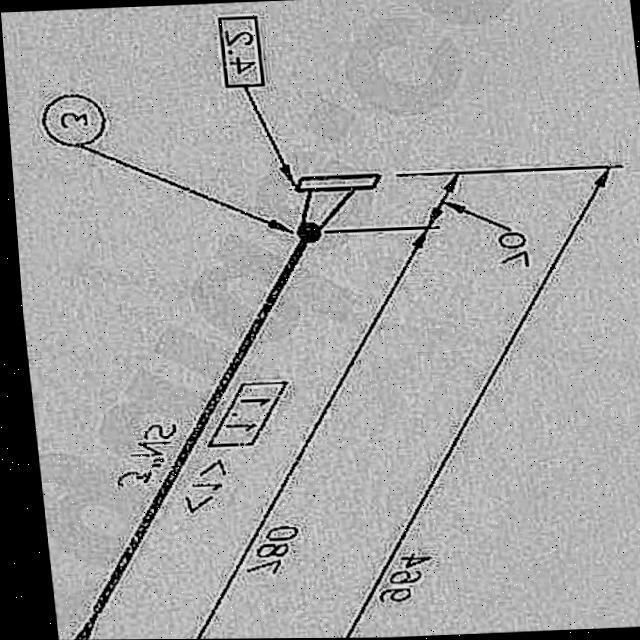Item number: (192, 377, 289, 451), (211, 13, 267, 89)
Measrement: (321, 164, 640, 638), (170, 227, 478, 639), (415, 165, 533, 275), (94, 408, 186, 490)
Pipeline: (56, 240, 309, 640)
Symbol: (281, 166, 387, 246)
Weld number: (31, 88, 112, 151)
